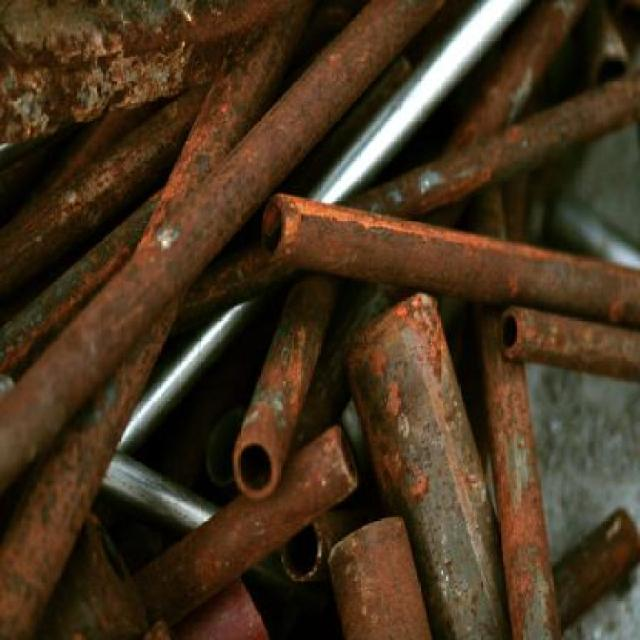corrosion: (3, 5, 632, 637)
